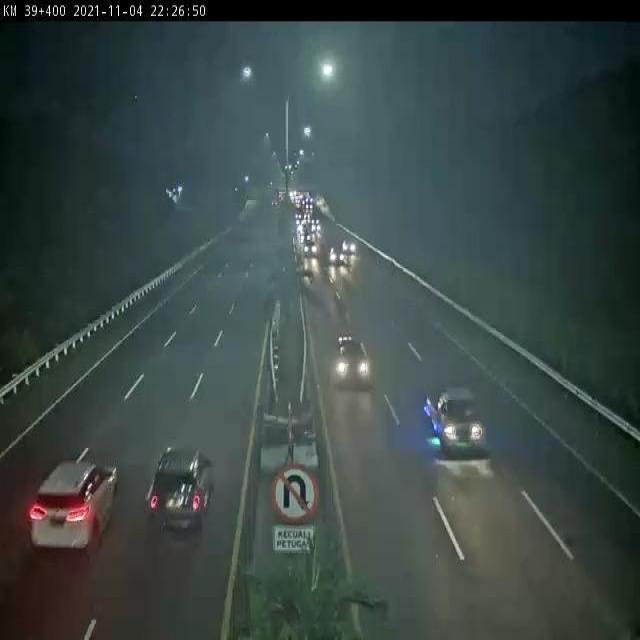car: (28, 457, 118, 555), (149, 448, 214, 531), (330, 331, 370, 386)
truck-m-: (421, 385, 487, 455)
